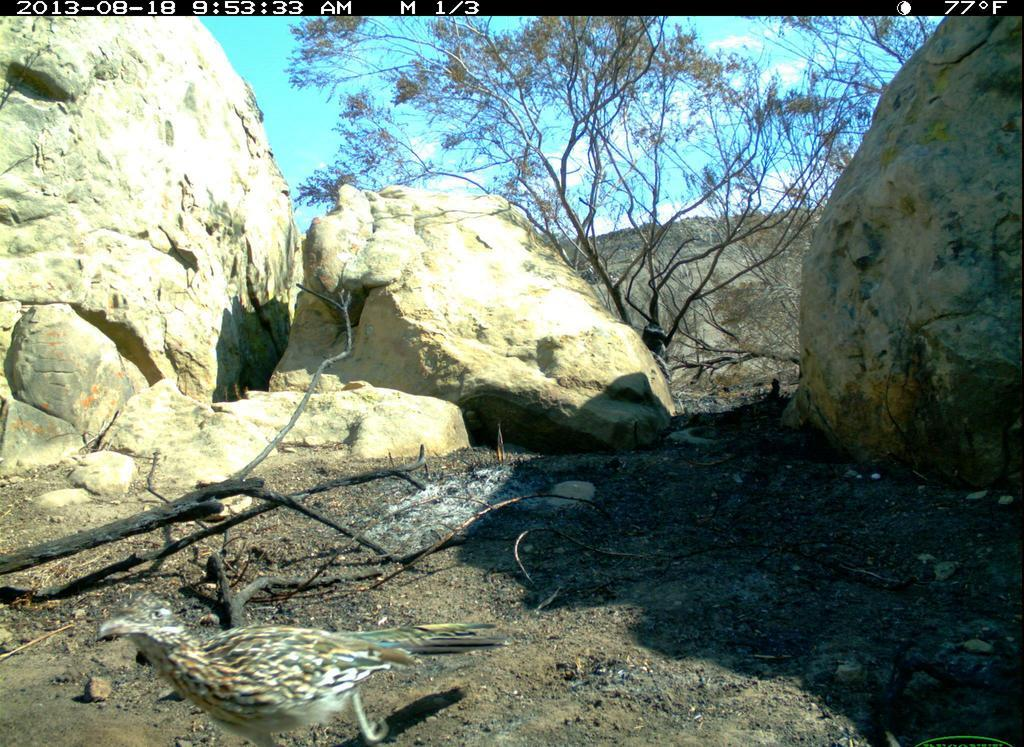bird: (88, 594, 525, 745)
